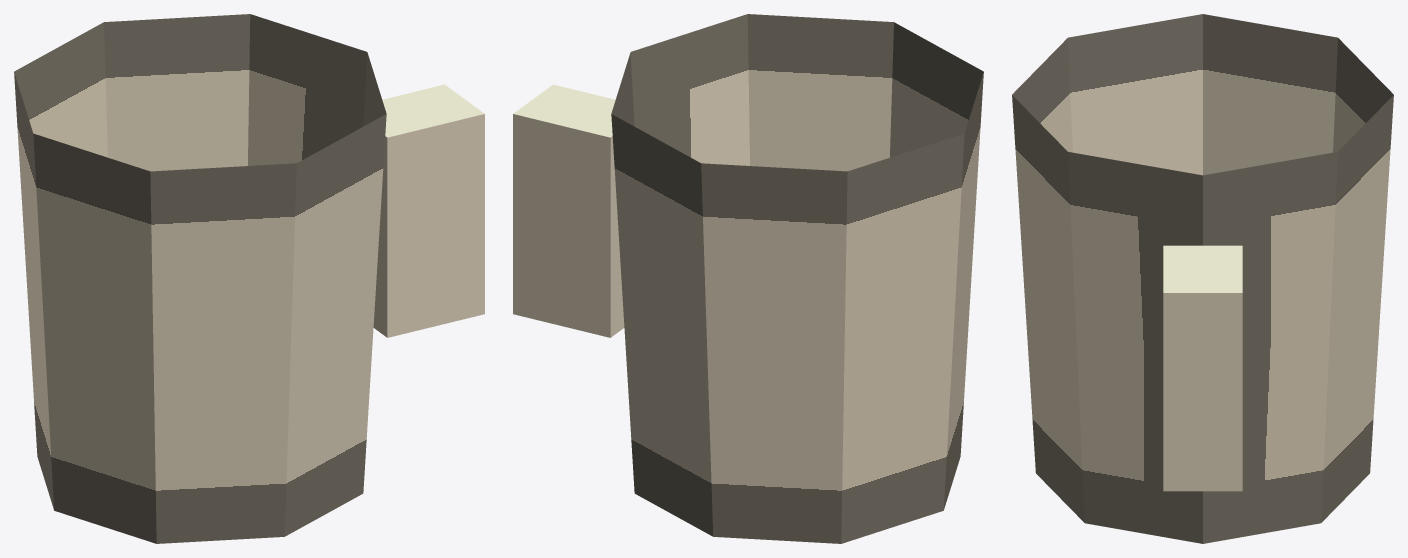
The model's file is Mug_Cream.obj.
3 renders of one model, left to right at view 1: azimuth 30°, elevation 25°; view 2: azimuth 150°, elevation 25°; view 3: azimuth 270°, elevation 25°, orthographic.
Parts seen in each view (by area): view 1: Mug_Cream; view 2: Mug_Cream; view 3: Mug_Cream.
Part boxes in pixels (x1=…): Mug_Cream: x1=14, y1=14, x2=484, y2=543; Mug_Cream: x1=513, y1=14, x2=983, y2=543; Mug_Cream: x1=1012, y1=14, x2=1393, y2=543.
Bounding box in the file's own units: 0.124 × 0.105 × 0.096.
Materials: 1 (1 with a texture image).
